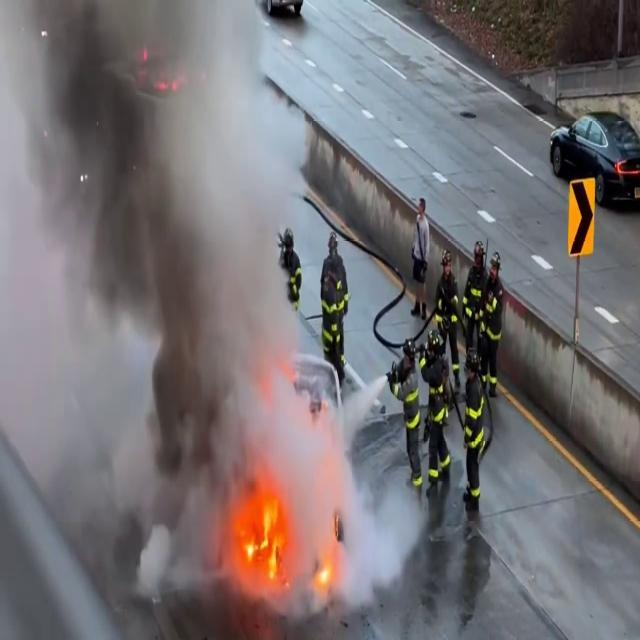Fire: (234, 471, 290, 588)
Smoke: (0, 1, 345, 580)
